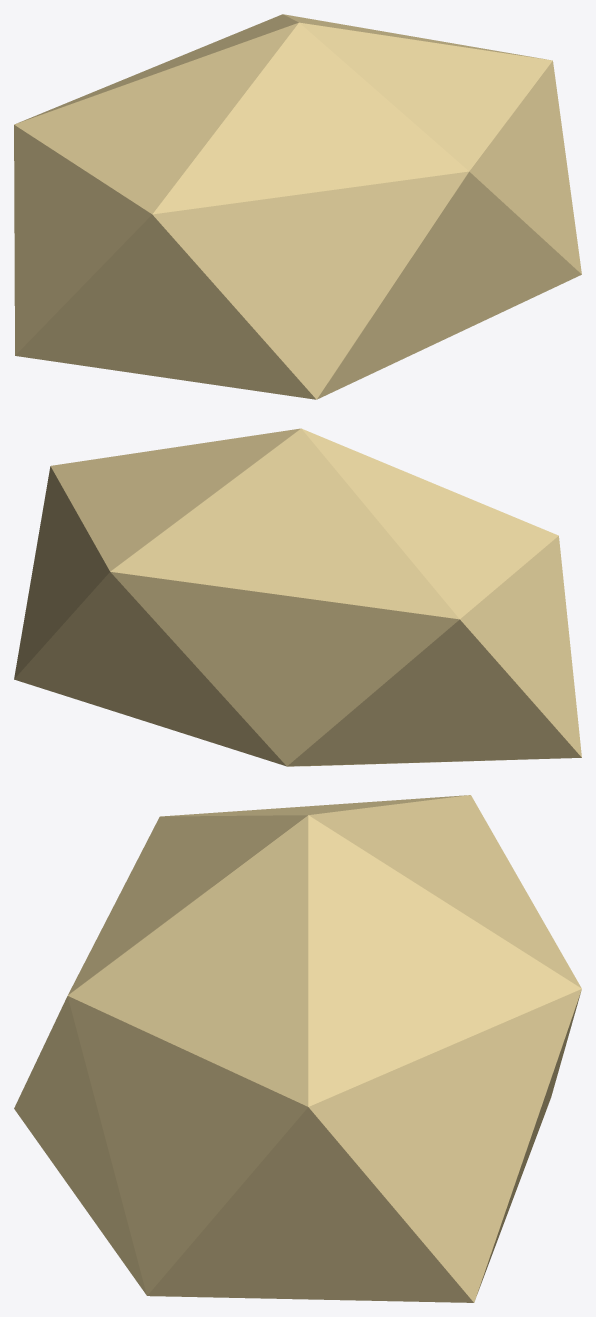
Rendered from item_066_pea_seed_s.glb.
3 views of the same model, one above another, from view 1: azimuth 30°, elevation 25°; view 2: azimuth 150°, elevation 25°; view 3: azimuth 270°, elevation 25° (orthographic). The views are drawn at different scales.
Visible parts, largest first — view 1: item_066_pea_seed_s; view 2: item_066_pea_seed_s; view 3: item_066_pea_seed_s.
Part boxes in pixels (x1,y1,x2,y2): item_066_pea_seed_s: (14,14,581,399); item_066_pea_seed_s: (14,428,581,766); item_066_pea_seed_s: (14,795,581,1302).
Size of the model in its own units: 0.3076 by 0.1869 by 0.2156.
